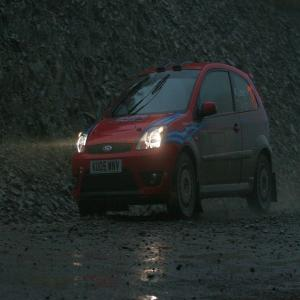Vehicle-registration-plate: (90, 158, 123, 177)
